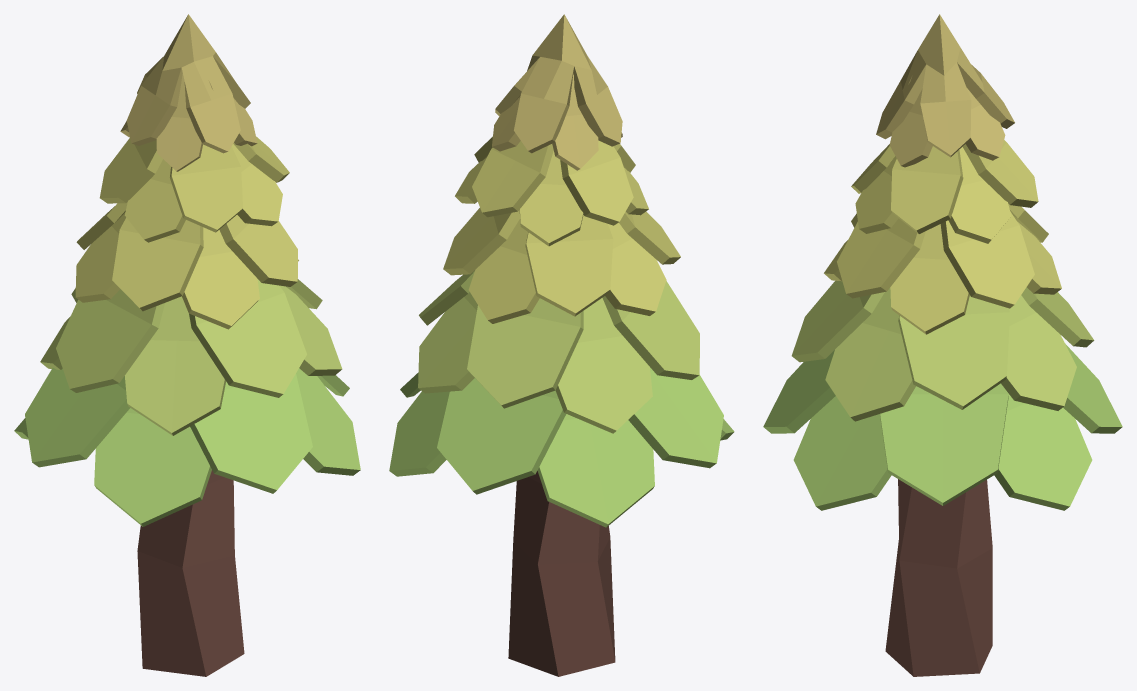
Rendered from Tree.fbx.
The picture shows the model from 3 angles, left to right: view 1: azimuth 30°, elevation 25°; view 2: azimuth 150°, elevation 25°; view 3: azimuth 270°, elevation 25°; orthographic projection.
Parts seen in each view (by area): view 1: Plane.001; view 2: Plane.001; view 3: Plane.001.
Boxes of the visible parts, x1=… form: Plane.001: x1=14, y1=14, x2=360, y2=676; Plane.001: x1=389, y1=14, x2=734, y2=676; Plane.001: x1=763, y1=14, x2=1122, y2=676.
Bounding box in the file's own units: 2.85 × 5.61 × 2.85.
